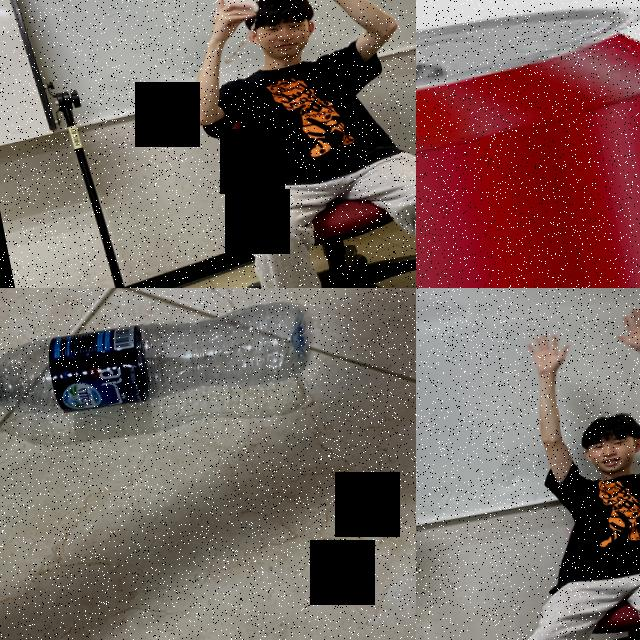bottle: (0, 288, 334, 455)
can: (416, 0, 640, 288)
